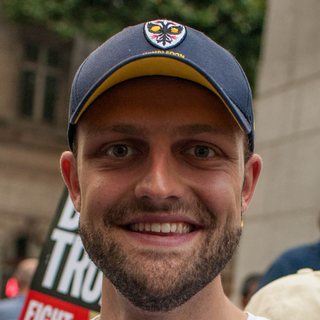eye: (178, 140, 226, 164), (96, 139, 143, 163)
